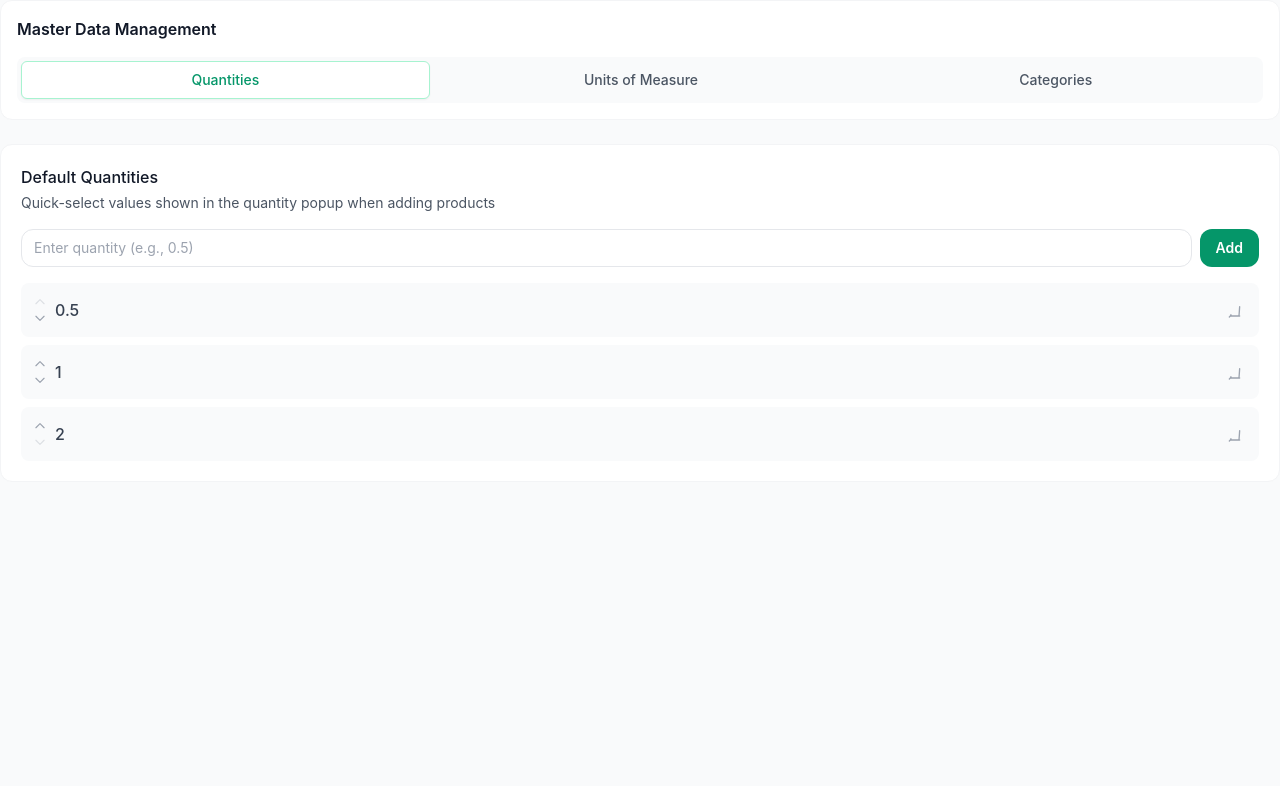
Test: MasterDataTab › Units of Measure Section › should display units grouped by type
Click the button "Units of Measure" at {"x": 641, "y": 80}, box 438,61 -> 844,99
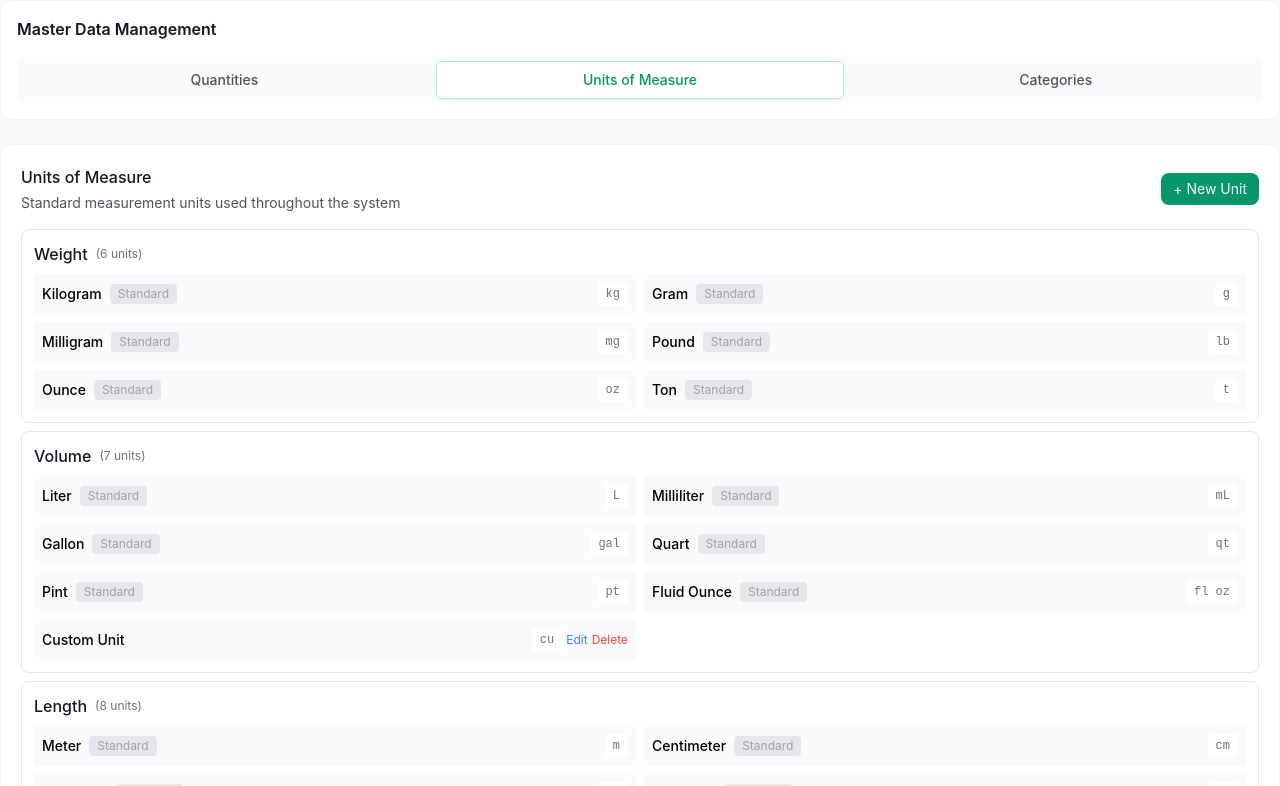
Check: the heading "Weight" is shown, box 34,242 -> 88,266
Check: the heading "Volume" is shown, box 34,444 -> 91,468
Check: the text "Kilogram" is shown, box 42,284 -> 102,304
